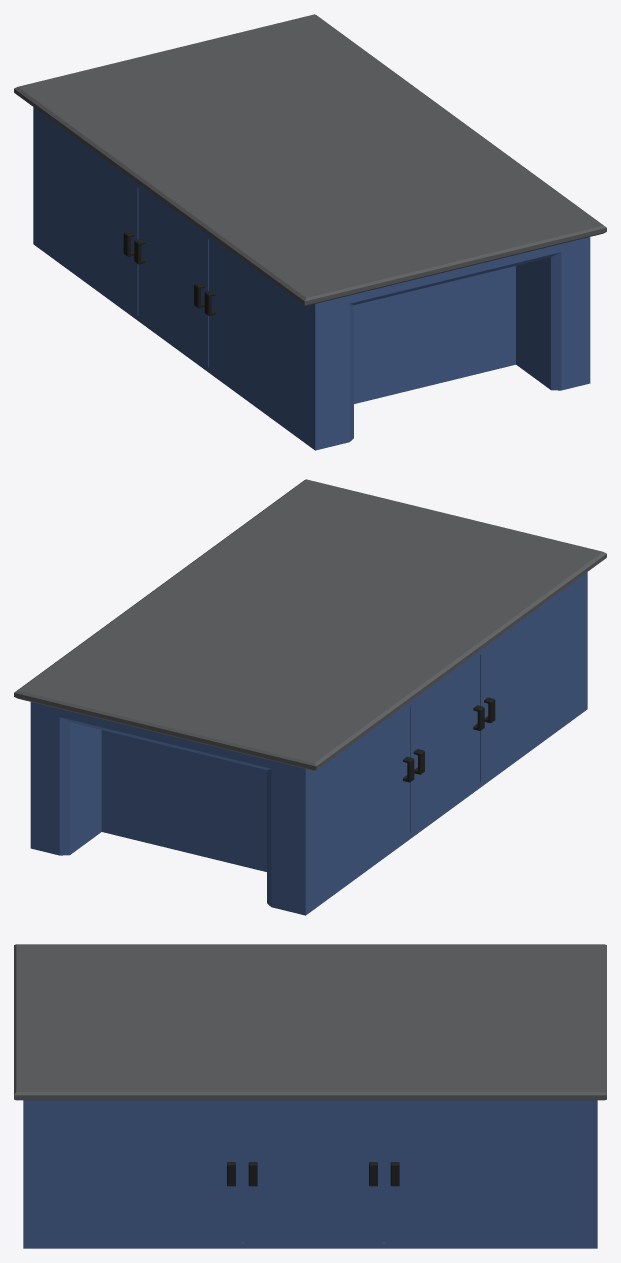
File: Obj_LabIslandTable.fbx
3 views of the same model, one above another, from view 1: azimuth 30°, elevation 25°; view 2: azimuth 150°, elevation 25°; view 3: azimuth 270°, elevation 25° (orthographic).
Visible parts, largest first — view 1: Obj_LabIslandTable; view 2: Obj_LabIslandTable; view 3: Obj_LabIslandTable.
Part boxes in pixels (x1,y1,x2,y2): Obj_LabIslandTable: (14,14,606,450); Obj_LabIslandTable: (14,479,606,915); Obj_LabIslandTable: (14,944,606,1248).
Size of the model in its own units: 3 by 1.5 by 5.
